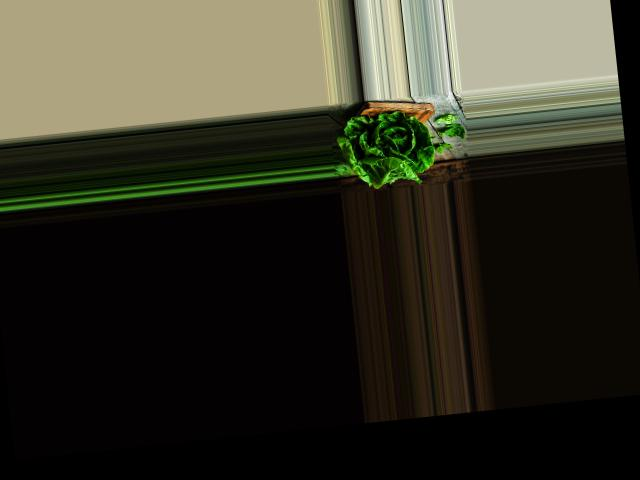lettuce: (332, 104, 433, 190)
